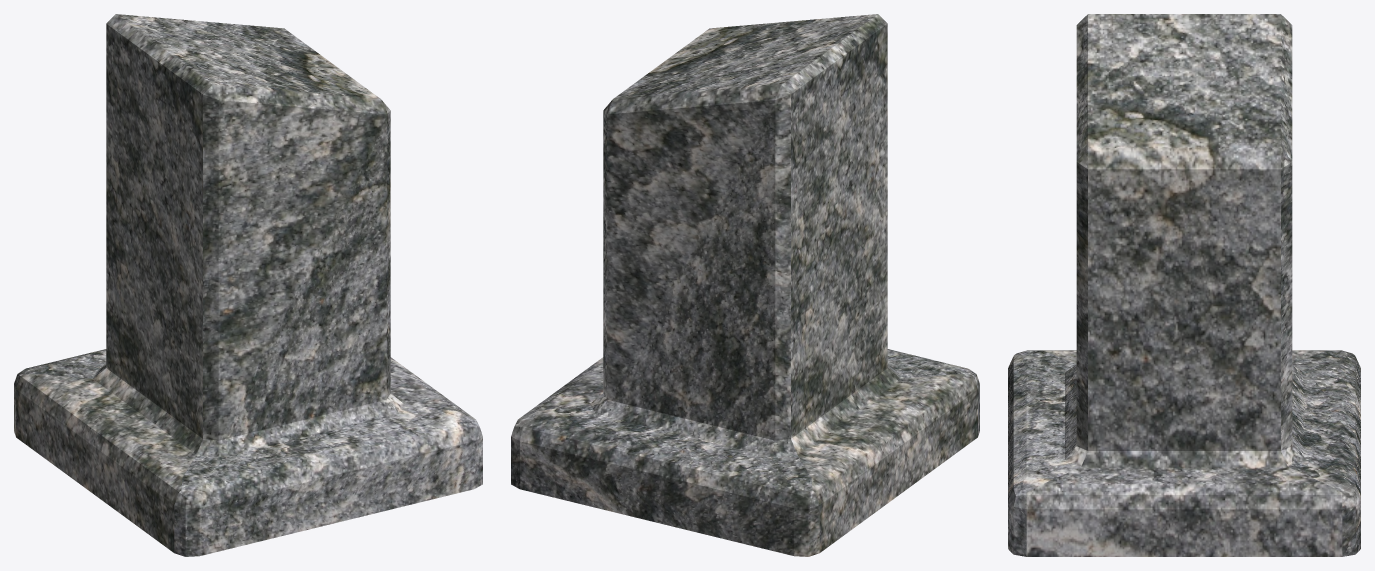
The model's file is altar.fbx.
The picture shows the model from 3 angles, left to right: view 1: azimuth 30°, elevation 25°; view 2: azimuth 150°, elevation 25°; view 3: azimuth 270°, elevation 25°; orthographic projection.
Visible parts, largest first — view 1: Altar; view 2: Altar; view 3: Altar.
Boxes of the visible parts, x1,y1,x2,y2 form: Altar: [14, 14, 482, 556]; Altar: [511, 14, 979, 556]; Altar: [1008, 14, 1360, 556].
Size of the model in its own units: 200 by 267 by 200.
